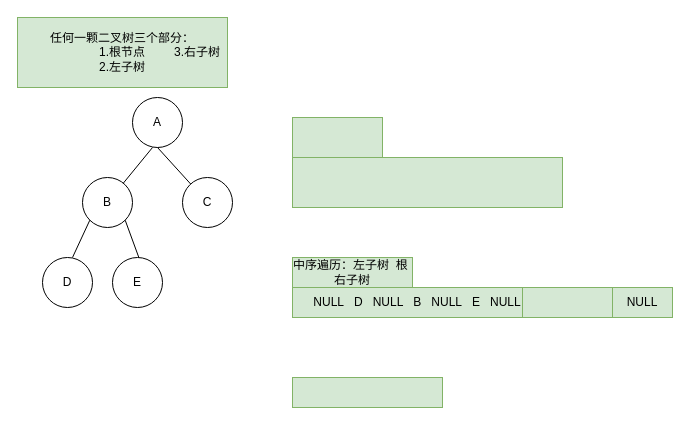
This 690x425 diagram has some shape labels left out. The centre of each missing label's shape, as x and y in pixels:
"A B D NULL NULL E NULL C NULL NULL" belongs at (x=427, y=182).
"A NULL C" belongs at (x=567, y=302).
"前序遍历：根 左子树 右子树" belongs at (x=337, y=137).
"后序遍历：左子树 右子树 根" belongs at (x=367, y=392).
